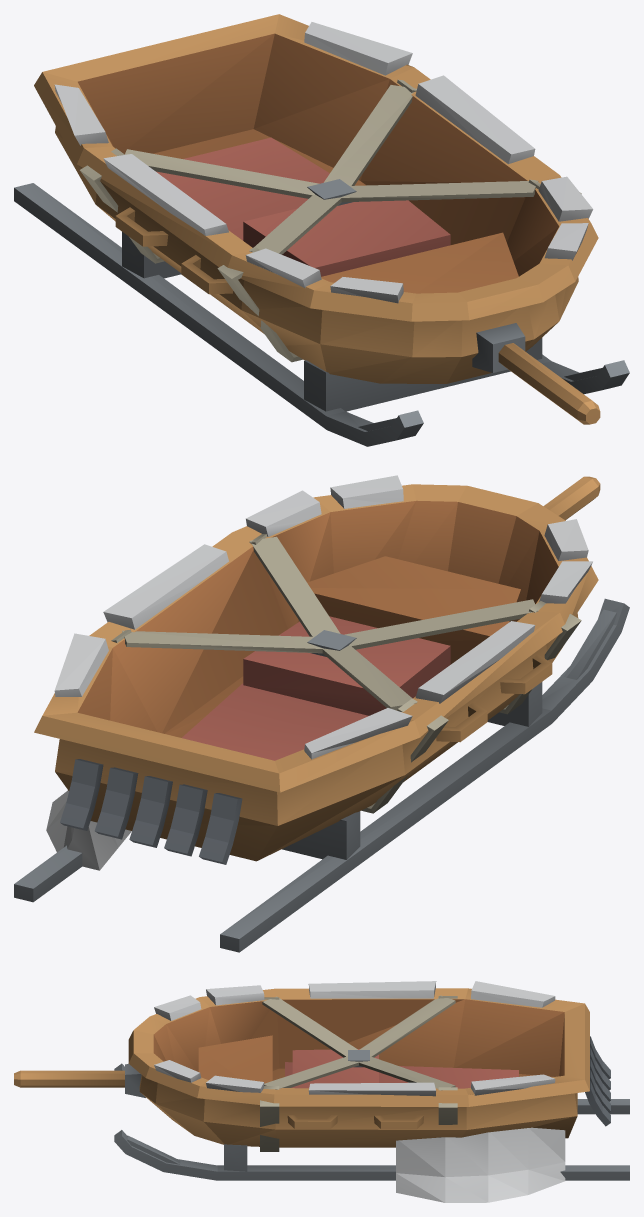
The model's file is akja.glb.
The picture shows the model from 3 angles, top to bottom: view 1: azimuth 30°, elevation 25°; view 2: azimuth 150°, elevation 25°; view 3: azimuth 270°, elevation 25°; orthographic projection. The views are drawn at different scales.
Visible parts, largest first — view 1: akja; view 2: akja; view 3: akja.
Boxes of the visible parts, <box> form: akja: <box>14,14,629,446</box>; akja: <box>14,475,629,952</box>; akja: <box>14,981,629,1202</box>.
Size of the model in its own units: 0.8898 by 0.3899 by 2.
